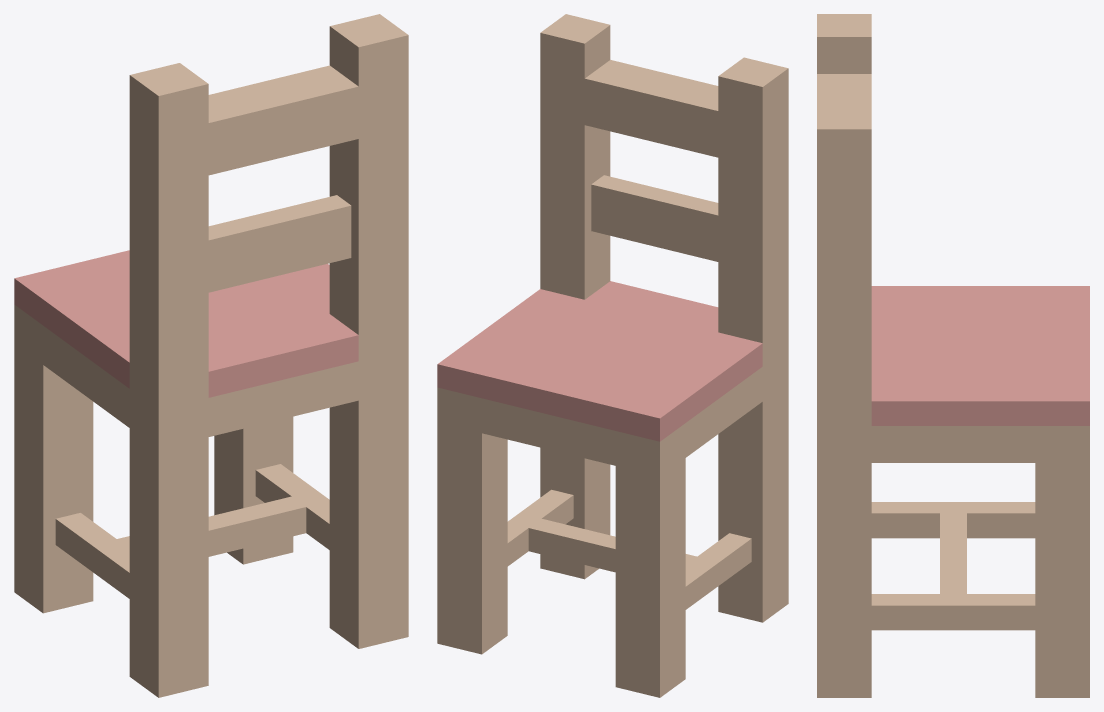
Rendered from chair_cushion.glb.
3 renders of one model, left to right at view 1: azimuth 30°, elevation 25°; view 2: azimuth 150°, elevation 25°; view 3: azimuth 270°, elevation 25°, orthographic. The views are drawn at different scales.
Parts seen in each view (by area): view 1: chairCushion(Clone); view 2: chairCushion(Clone); view 3: chairCushion(Clone).
Part boxes in pixels (x1,y1,x2,y2): chairCushion(Clone): (14, 14, 408, 697); chairCushion(Clone): (437, 14, 788, 697); chairCushion(Clone): (817, 14, 1089, 697).
Bounding box in the file's own units: 0.42 × 0.966 × 0.42.
